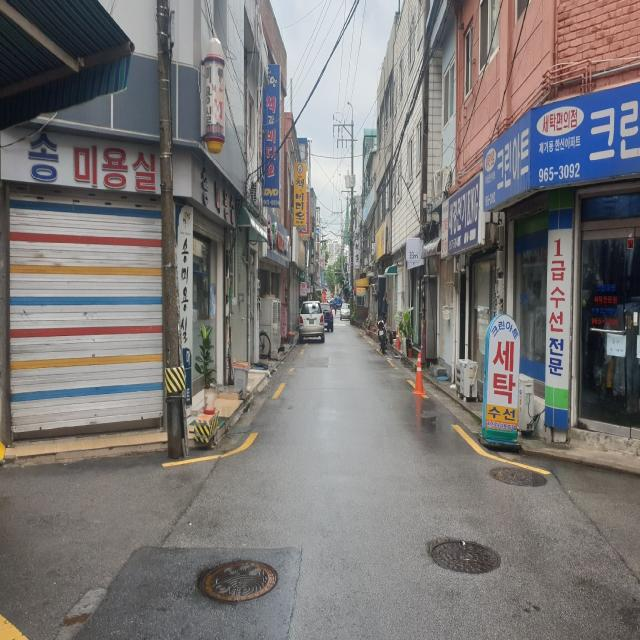car: (298, 301, 325, 343), (320, 303, 334, 332)
motorbike: (375, 317, 388, 354)
